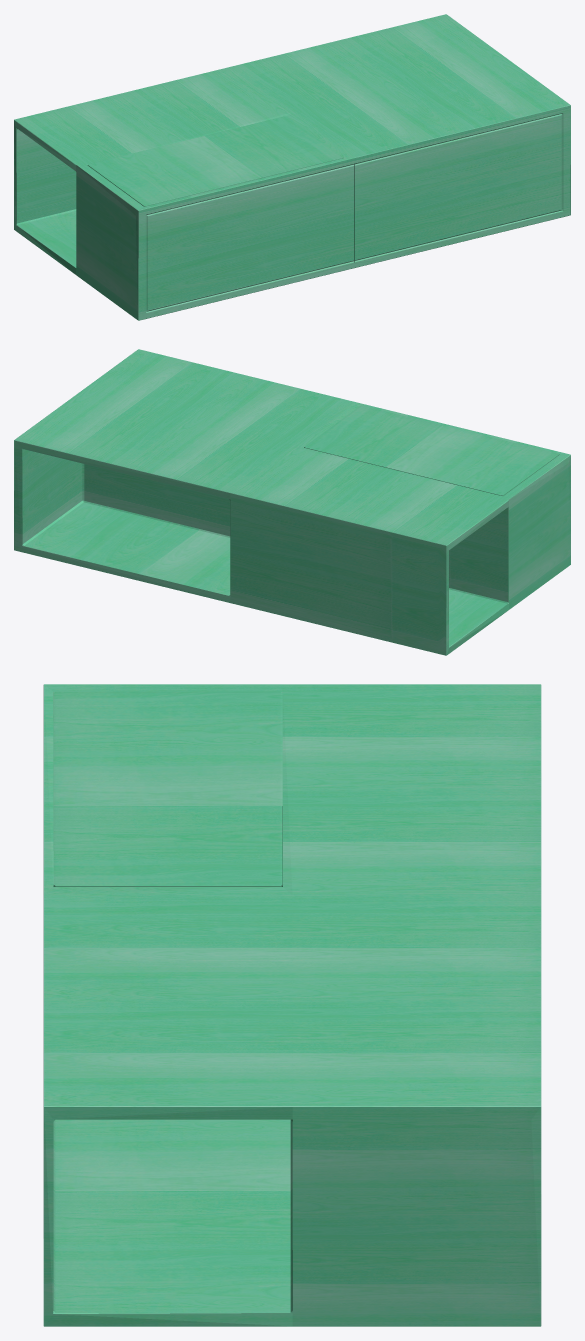
File: furniture_val_amber_plaster_c1.dae
The picture shows the model from 3 angles, top to bottom: view 1: azimuth 30°, elevation 25°; view 2: azimuth 150°, elevation 25°; view 3: azimuth 270°, elevation 25°; orthographic projection. The views are drawn at different scales.
Parts seen in each view (by area): view 1: aws_CoffeeTable_01_visual; view 2: aws_CoffeeTable_01_visual; view 3: aws_CoffeeTable_01_visual.
Part boxes in pixels (<box>): aws_CoffeeTable_01_visual: <box>14,14,570,320</box>; aws_CoffeeTable_01_visual: <box>14,349,570,655</box>; aws_CoffeeTable_01_visual: <box>43,684,541,1326</box>.
Size of the model in its own units: 131 by 65.48 by 32.17.
Materials: 1 (1 with a texture image).
